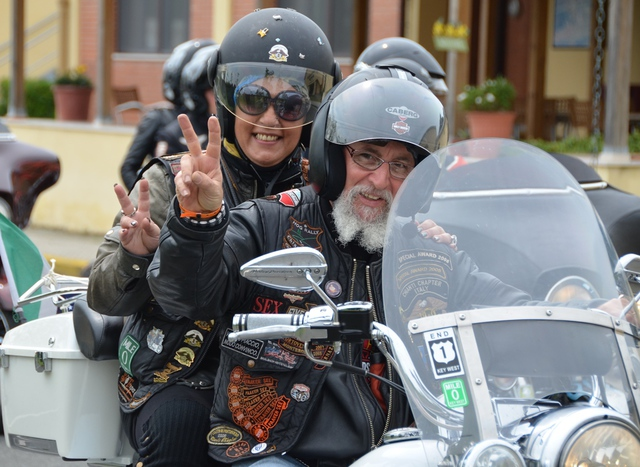helmet: (319, 73, 443, 194), (215, 12, 340, 102)
